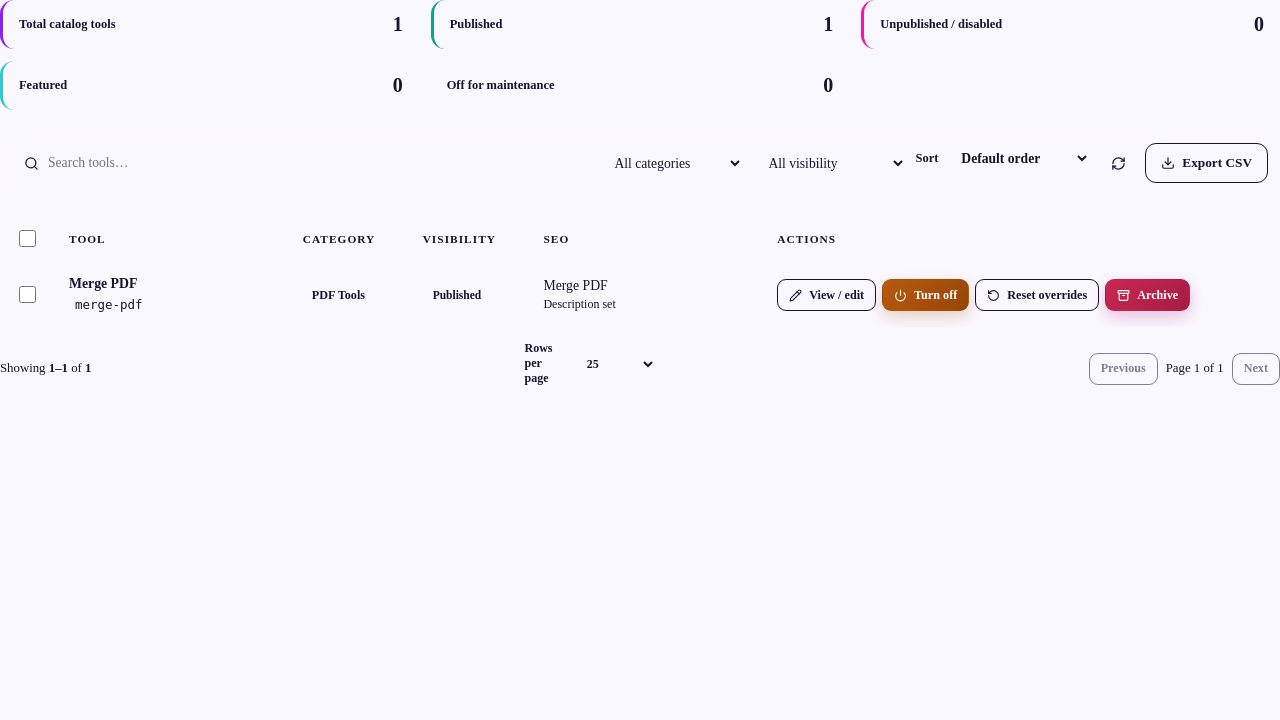
Admin catalog CRUD controls › cancels destructive confirmation without sending any mutation
This screenshot has width=1280, height=720.
What coordinates should you click on to do the following:
click the button "Archive"
I would click on:
 (1148, 295)
Its box is [1105,279,1190,311].
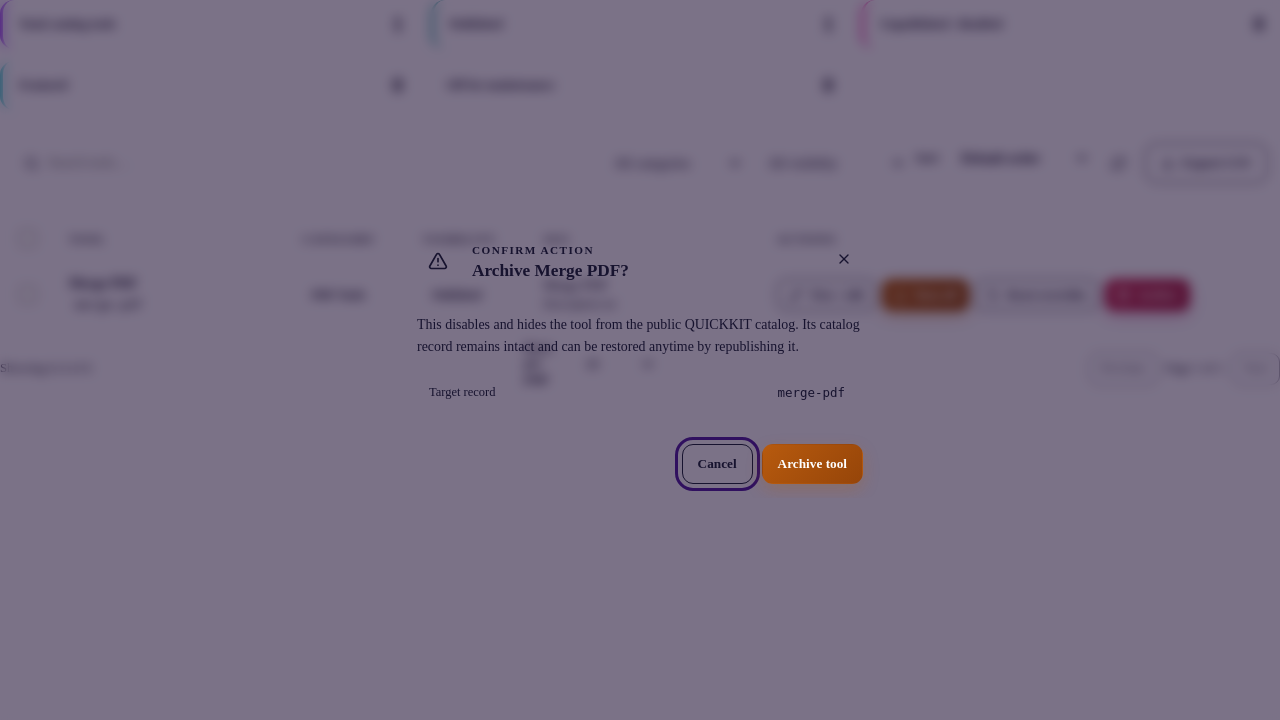
Now the dialog is shown, box [395,222,885,498]
What coordinates should you click on to do the following:
click the button "Cancel"
I would click on:
 (717, 464)
Its box is [682,444,753,484].
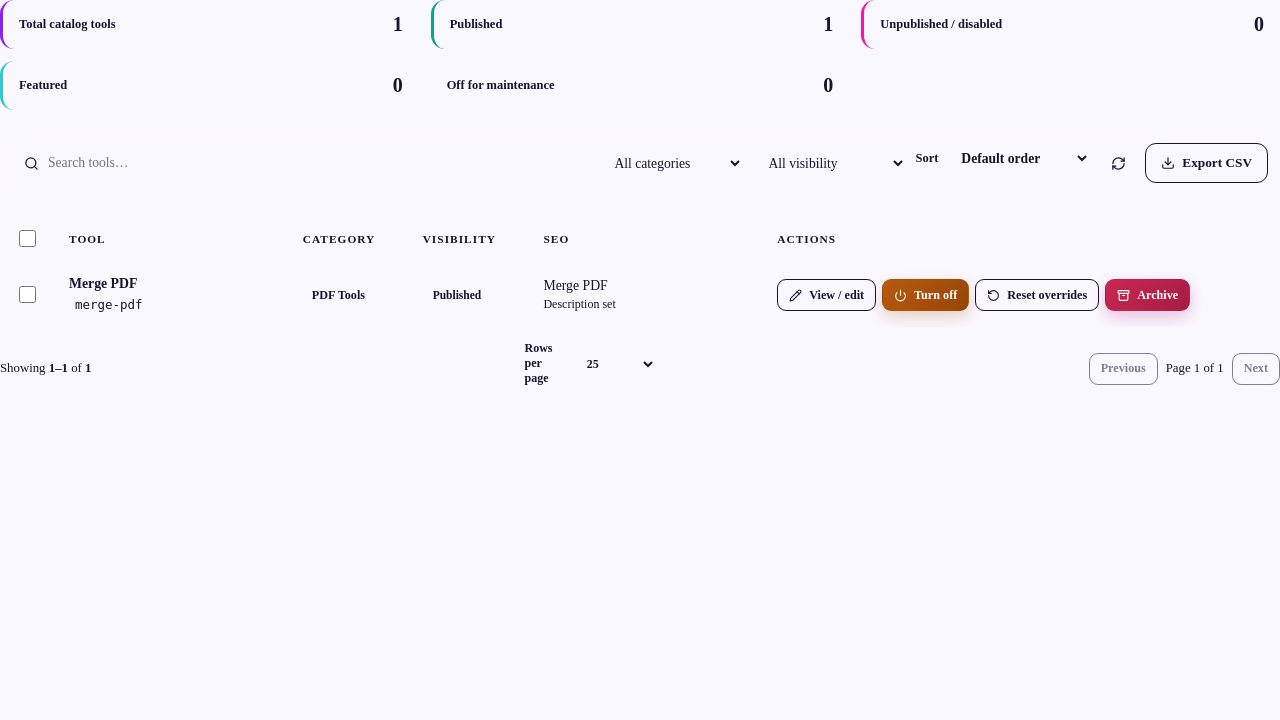
Now the dialog is gone
